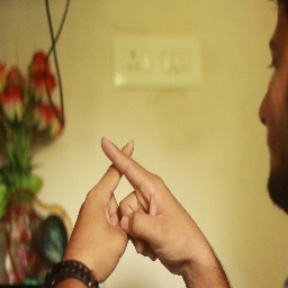X: (78, 116, 174, 227)
